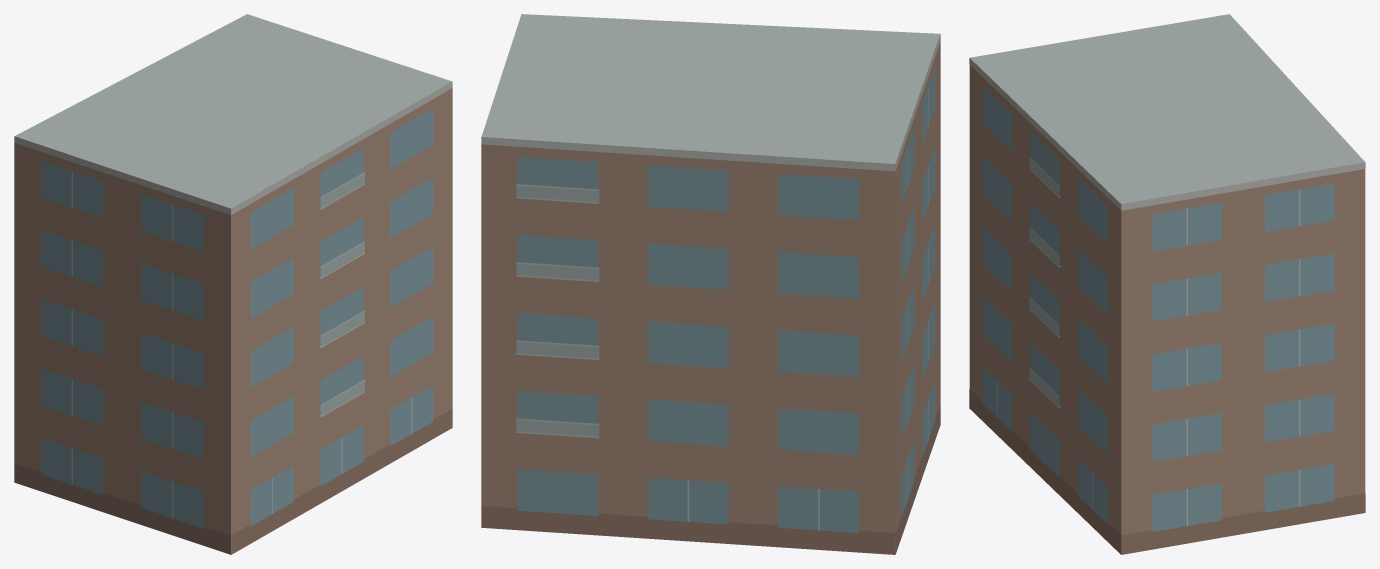
Rendered from survey-upis-33001998.glb.
3 views of the same model, side by side, from view 1: azimuth 30°, elevation 25°; view 2: azimuth 150°, elevation 25°; view 3: azimuth 270°, elevation 25° (orthographic). The views are drawn at different scales.
Visible parts, largest first — view 1: survey-upis-33001998.tmp; view 2: survey-upis-33001998.tmp; view 3: survey-upis-33001998.tmp.
Part boxes in pixels (x1,y1,x2,y2): survey-upis-33001998.tmp: (14,14,452,554); survey-upis-33001998.tmp: (481,14,940,554); survey-upis-33001998.tmp: (969,14,1365,554).
Size of the model in its own units: 15.13 by 13 by 13.31.
